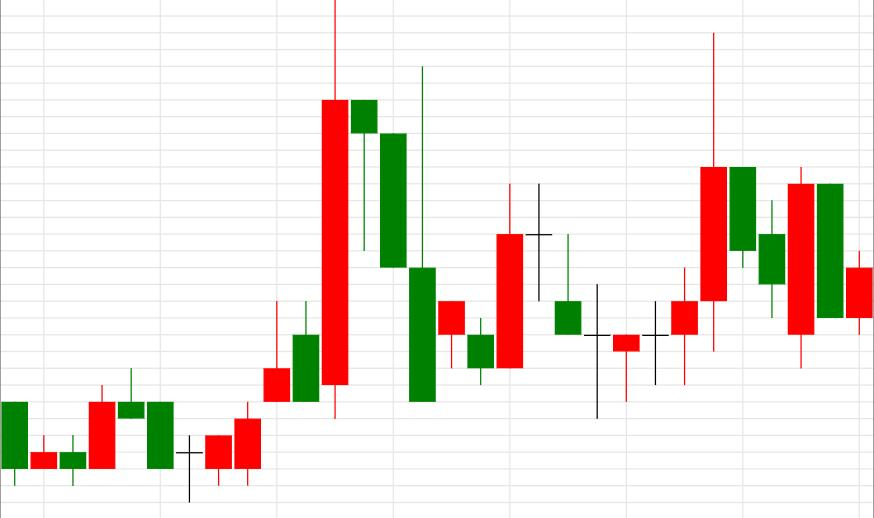hanging_man_fall: (205, 0, 377, 487)
